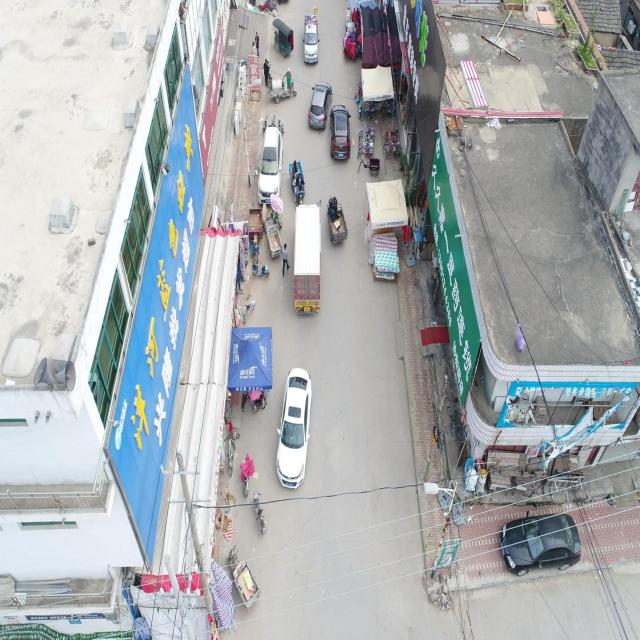car: (499, 512, 582, 576), (276, 367, 312, 490), (329, 104, 351, 160), (308, 81, 332, 130), (303, 22, 319, 64)
person: (282, 242, 290, 276), (263, 58, 270, 87), (254, 31, 259, 56)
